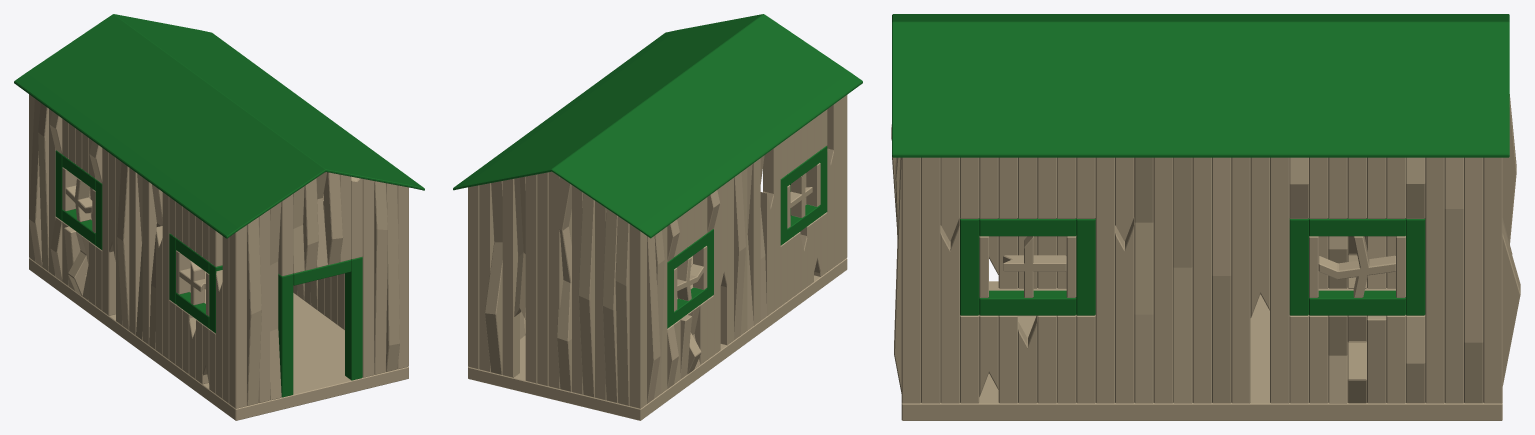
File: House_03.fbx
3 renders of one model, left to right at view 1: azimuth 30°, elevation 25°; view 2: azimuth 150°, elevation 25°; view 3: azimuth 270°, elevation 25°, orthographic. The views are drawn at different scales.
Visible parts, largest first — view 1: House_03; view 2: House_03; view 3: House_03.
Boxes of the visible parts, bbox=[...] form: House_03: bbox=[14, 14, 424, 420]; House_03: bbox=[453, 14, 862, 420]; House_03: bbox=[891, 14, 1520, 420].
Size of the model in its own units: 343 by 385 by 649.
